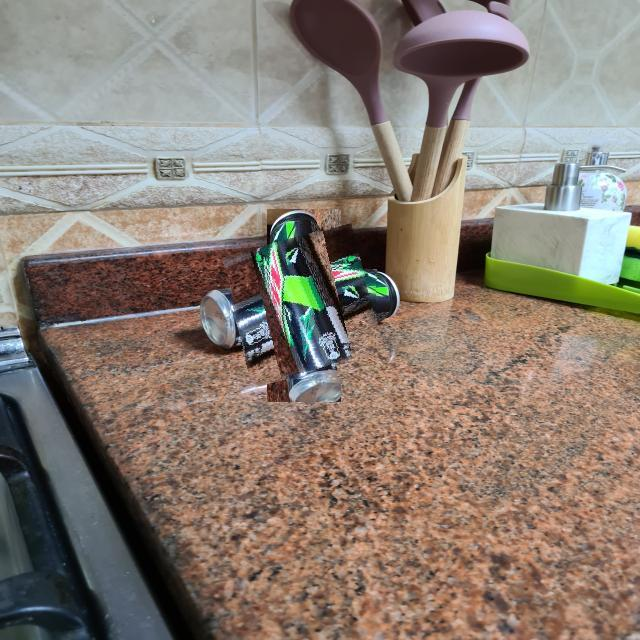recyclable: (230, 231, 378, 380)
